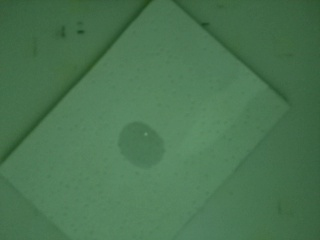Water_detected: (126, 125, 166, 163)
